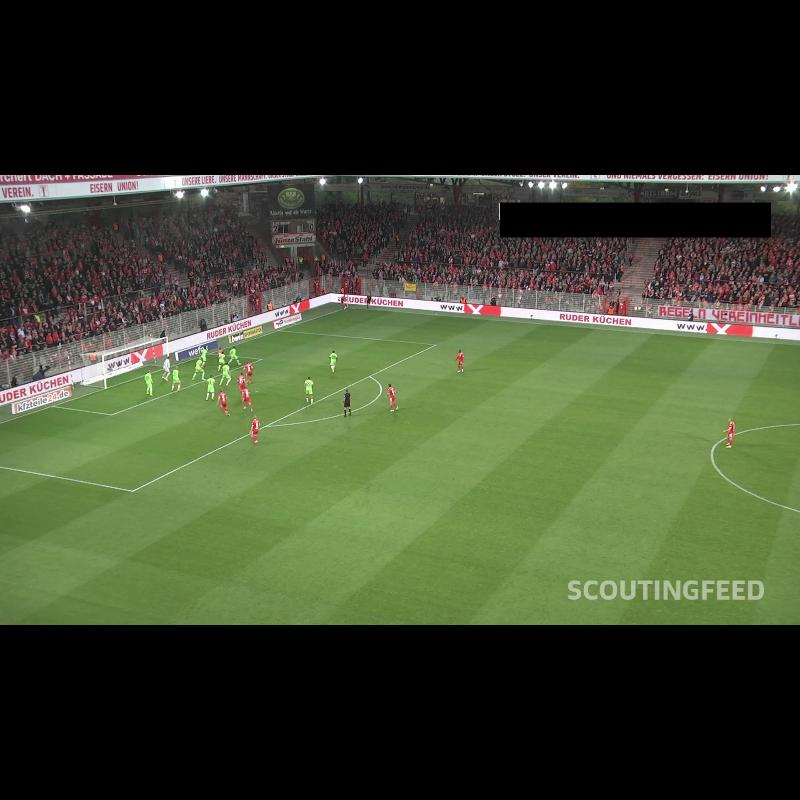cross_recipient_zone: (0, 330, 435, 491)
crossing_player_zone: (0, 466, 305, 625), (279, 308, 595, 356)
pitch: (0, 308, 800, 625)
